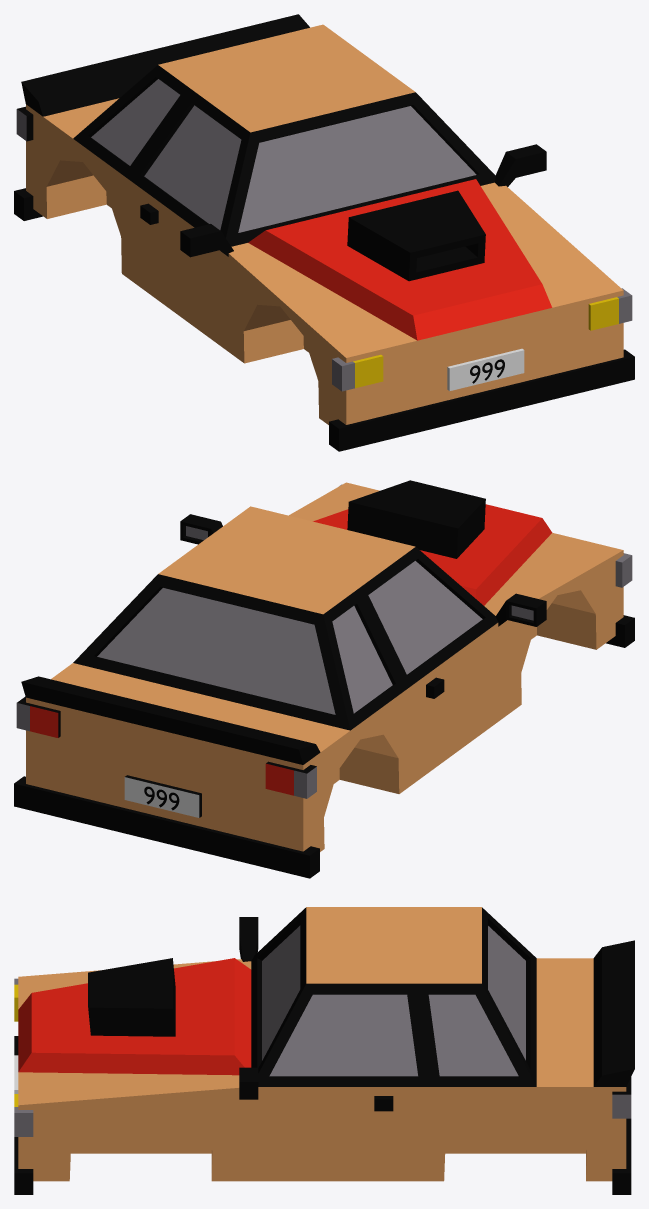
The model's file is MainCar.fbx.
The picture shows the model from 3 angles, top to bottom: view 1: azimuth 30°, elevation 25°; view 2: azimuth 150°, elevation 25°; view 3: azimuth 270°, elevation 25°; orthographic projection. The views are drawn at different scales.
Parts seen in each view (by area): view 1: Cube.003; view 2: Cube.003; view 3: Cube.003.
Part boxes in pixels (x1,y1,x2,y2): Cube.003: [14, 14, 634, 451]; Cube.003: [14, 480, 634, 878]; Cube.003: [14, 907, 634, 1194].
Size of the model in its own units: 257 by 131 by 409.
